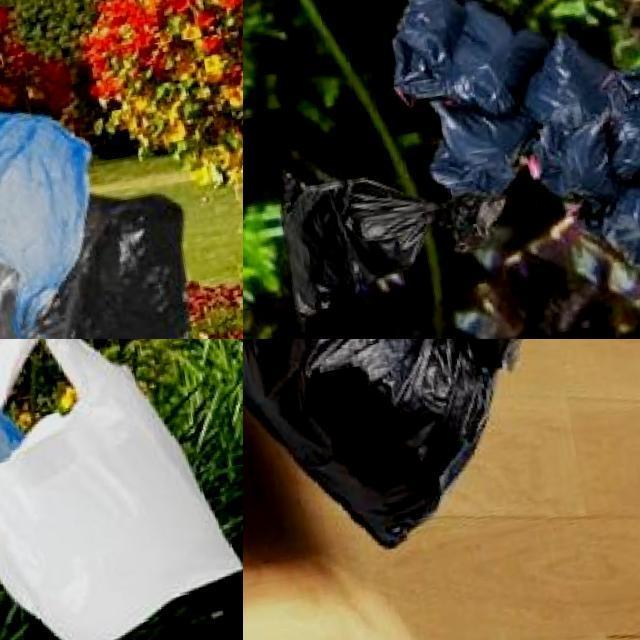waste: (0, 339, 243, 640), (243, 339, 542, 571), (268, 140, 516, 318), (0, 187, 217, 339), (0, 97, 119, 339), (374, 0, 555, 127), (519, 114, 623, 202), (591, 186, 640, 318), (600, 109, 640, 203), (605, 54, 640, 119)
